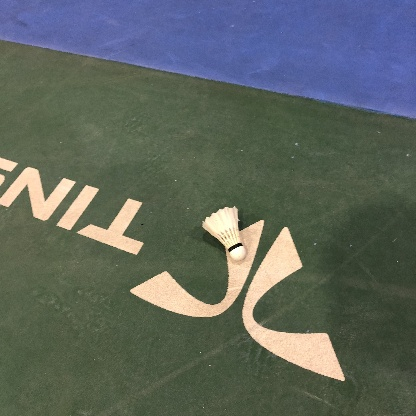ball_single: (201, 206, 246, 261)
